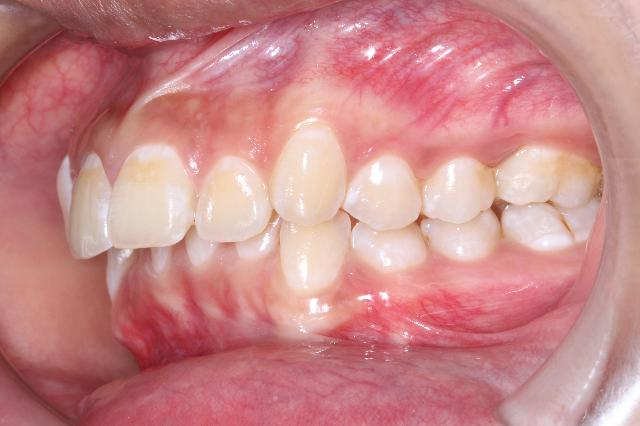canine class II 1/2: (263, 102, 425, 304)
molar class II 1/2: (491, 136, 602, 260)
